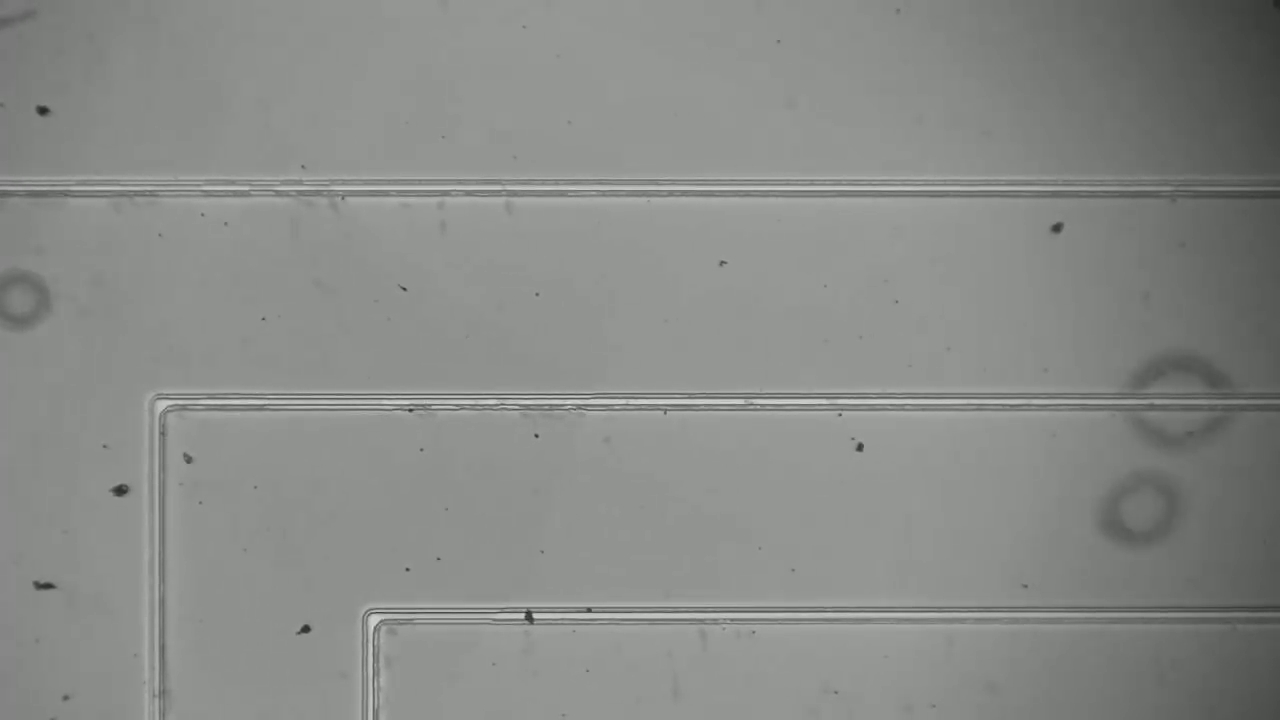stains_enbedded: (513, 599, 544, 633)
